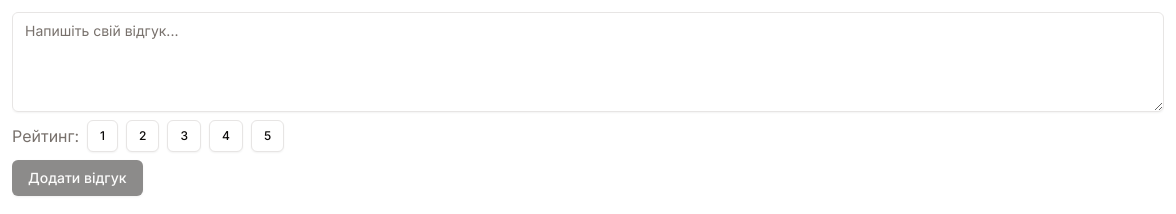
BookReviewForm › enables submit button when form is filled
In the text box with test id "review-form": (588, 62) x1=12 y1=12 x2=1164 y2=112, type "Test review"
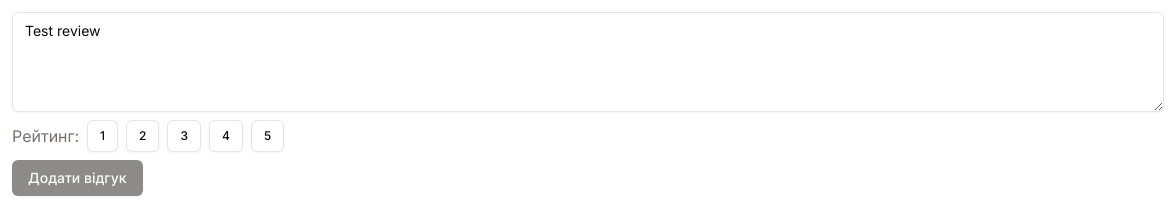
Click the button with test id "rating-3": (184, 136) x1=168 y1=120 x2=201 y2=152
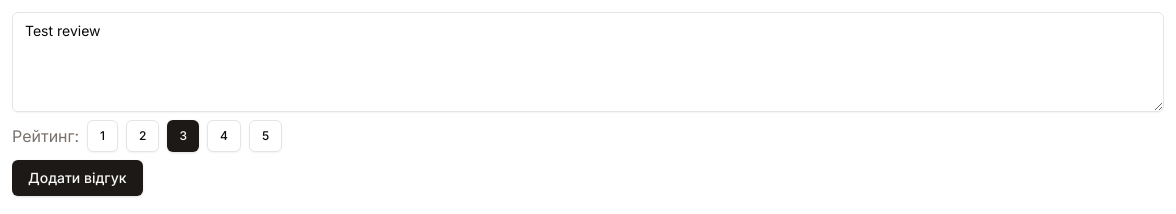
Now the button "Додати відгук" is enabled, box x1=12 y1=160 x2=142 y2=196
